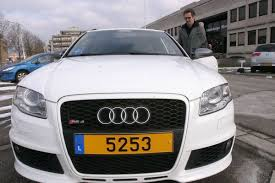number_plate: (71, 133, 178, 156)
